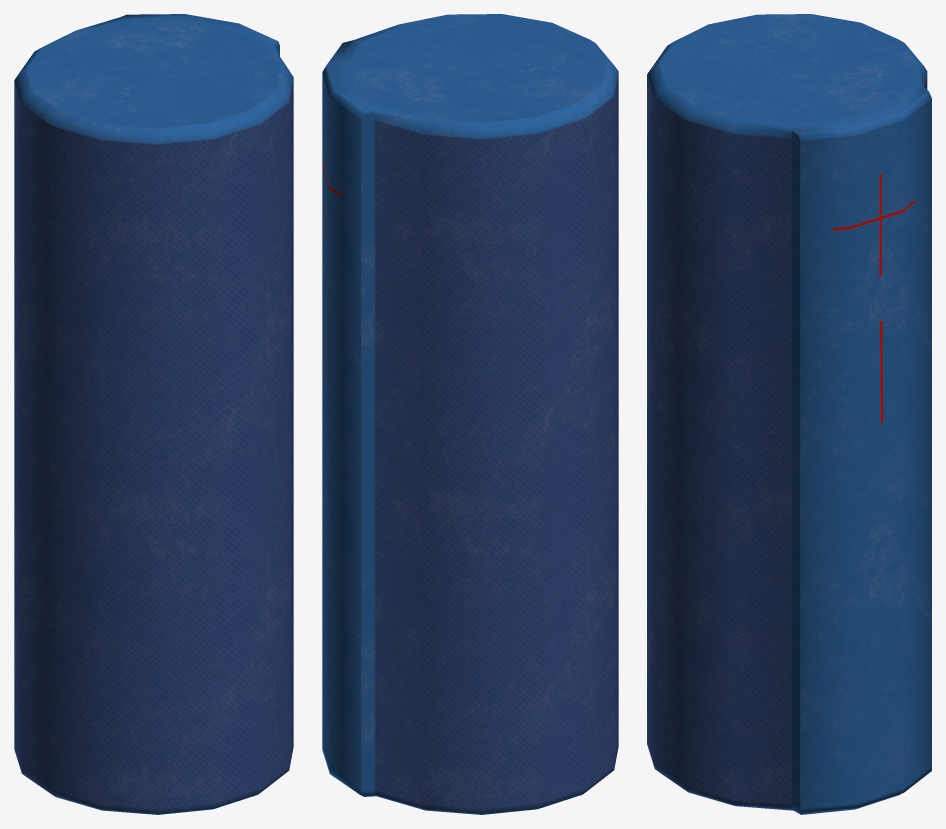
Rendered from Speaker.fbx.
The picture shows the model from 3 angles, left to right: view 1: azimuth 30°, elevation 25°; view 2: azimuth 150°, elevation 25°; view 3: azimuth 270°, elevation 25°; orthographic projection.
Visible parts, largest first — view 1: Speaker; view 2: Speaker; view 3: Speaker.
Boxes of the visible parts, box(x1,y1,x2,y2) form: Speaker: box(14, 14, 293, 814); Speaker: box(322, 14, 618, 814); Speaker: box(647, 14, 931, 814).
Size of the model in its own units: 7.48 by 19.4 by 7.31.
Materials: 1 (1 with a texture image).
